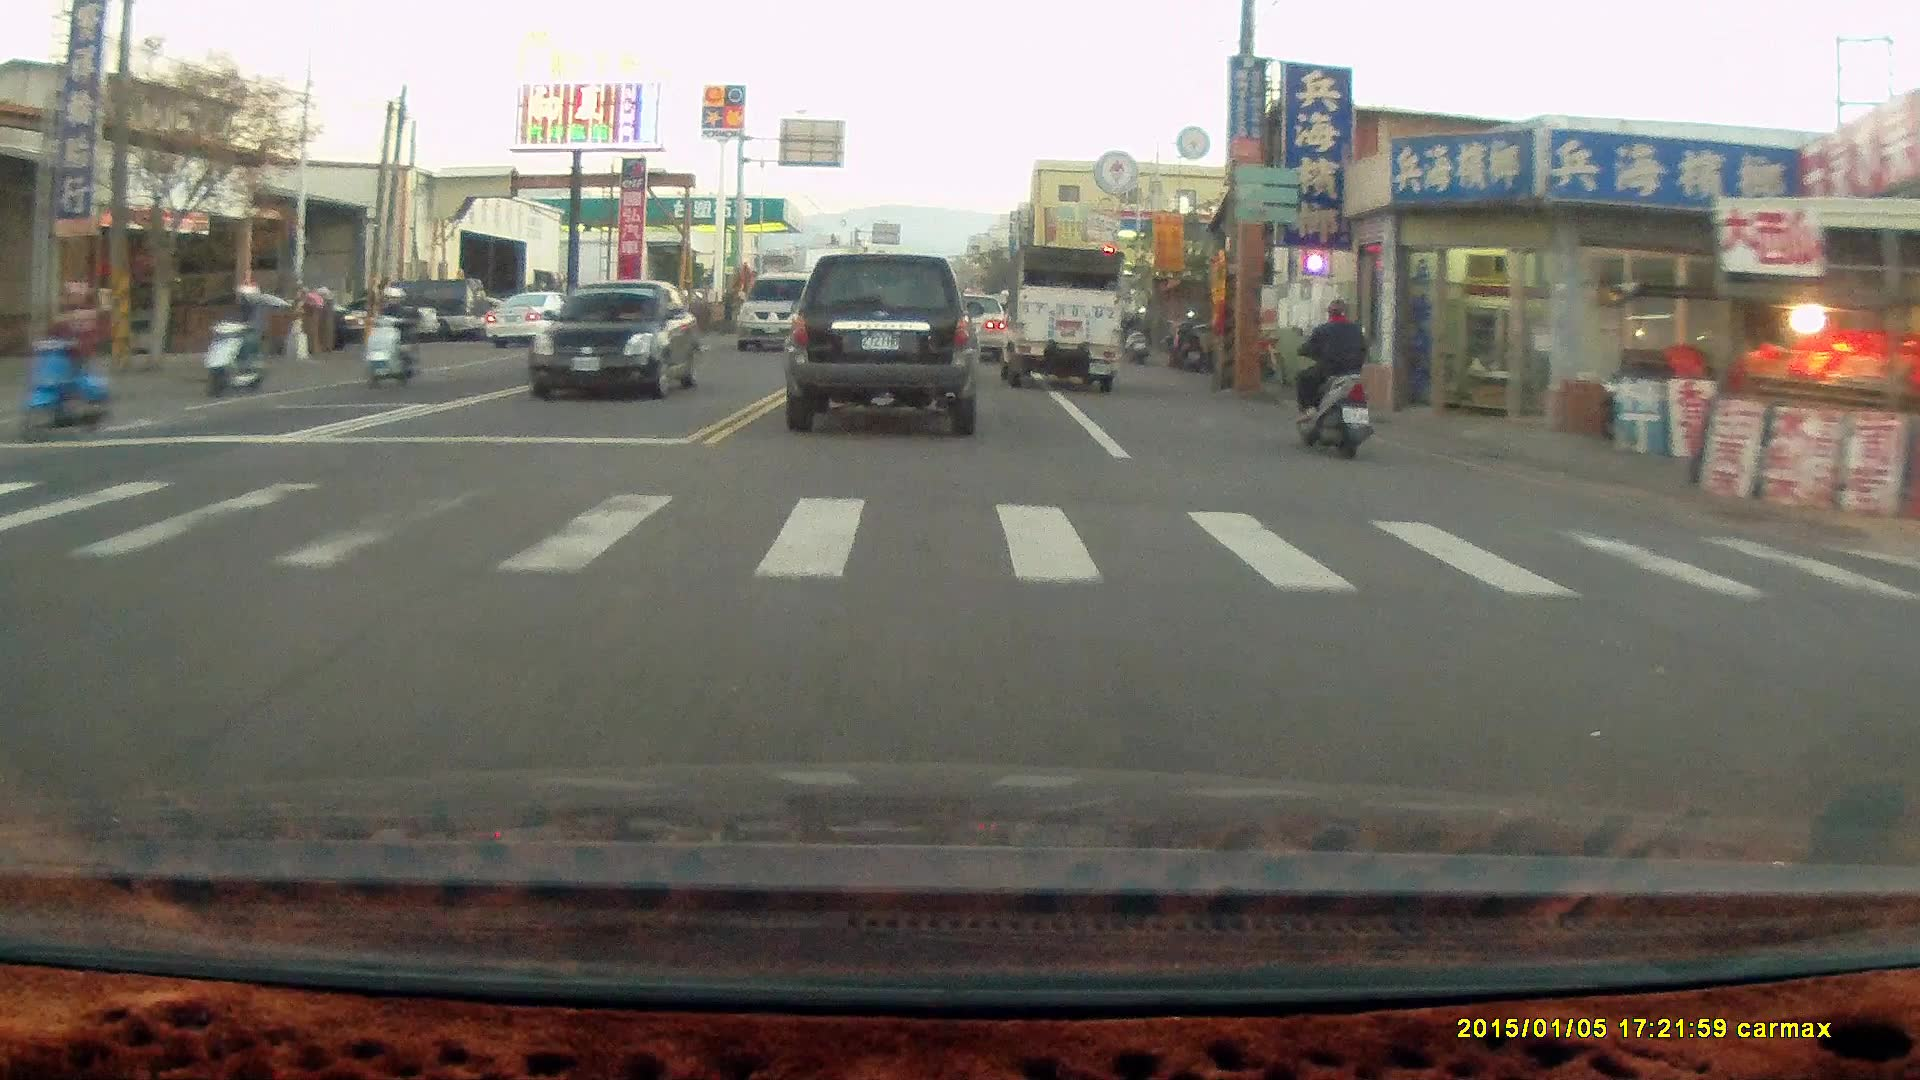rider: (1281, 281, 1373, 447), (20, 275, 112, 440), (197, 277, 270, 395), (356, 283, 421, 387)
vehicle: (781, 254, 983, 435), (531, 280, 703, 400), (995, 242, 1122, 392), (734, 270, 825, 351), (494, 291, 604, 350), (936, 291, 1009, 364)
